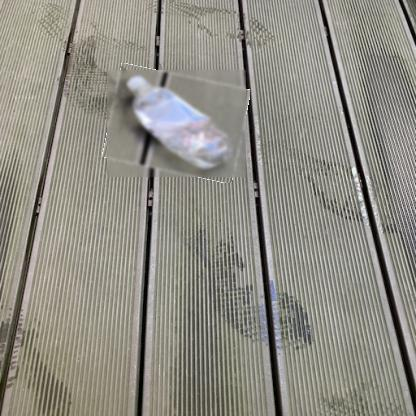plastic-bottles: (108, 71, 248, 179)
